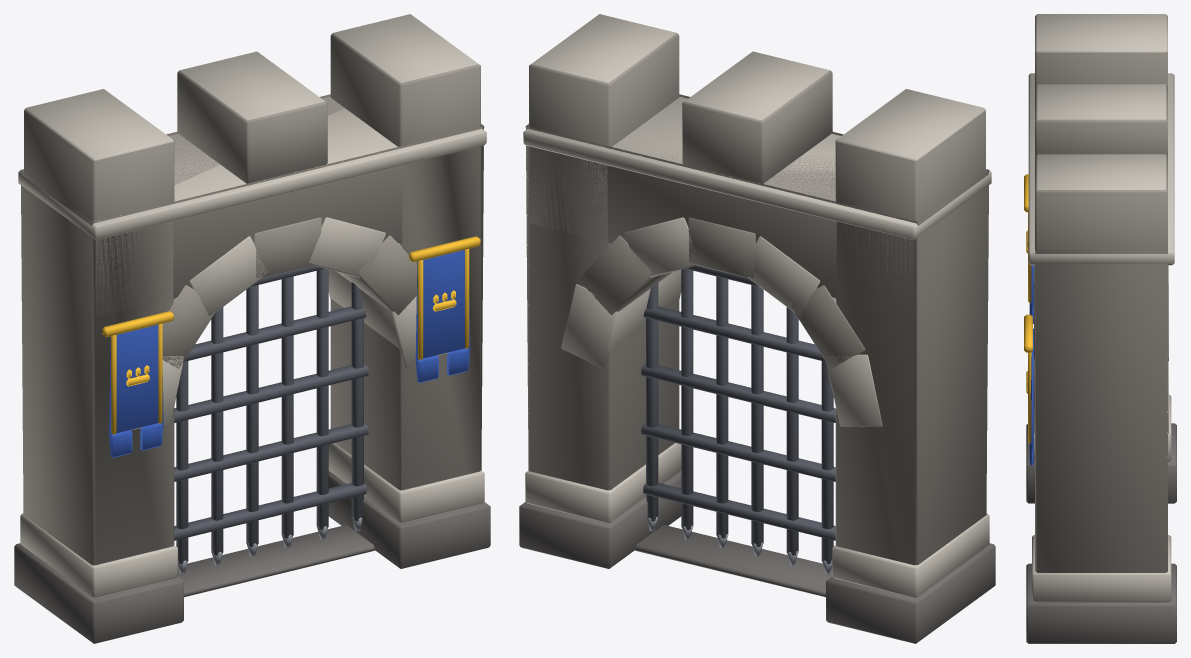
Rendered from B_MedGateClosed.fbx.
3 renders of one model, left to right at view 1: azimuth 30°, elevation 25°; view 2: azimuth 150°, elevation 25°; view 3: azimuth 270°, elevation 25°, orthographic. The views are drawn at different scales.
Parts seen in each view (by area): view 1: M_GateClosed; view 2: M_GateClosed; view 3: M_GateClosed.
Boxes of the visible parts, x1,y1,x2,y2 form: M_GateClosed: (14, 14, 490, 643); M_GateClosed: (519, 14, 995, 643); M_GateClosed: (1024, 14, 1176, 643).
Size of the model in its own units: 3.9 by 4.5 by 1.38.
Materials: 1 (1 with a texture image).
